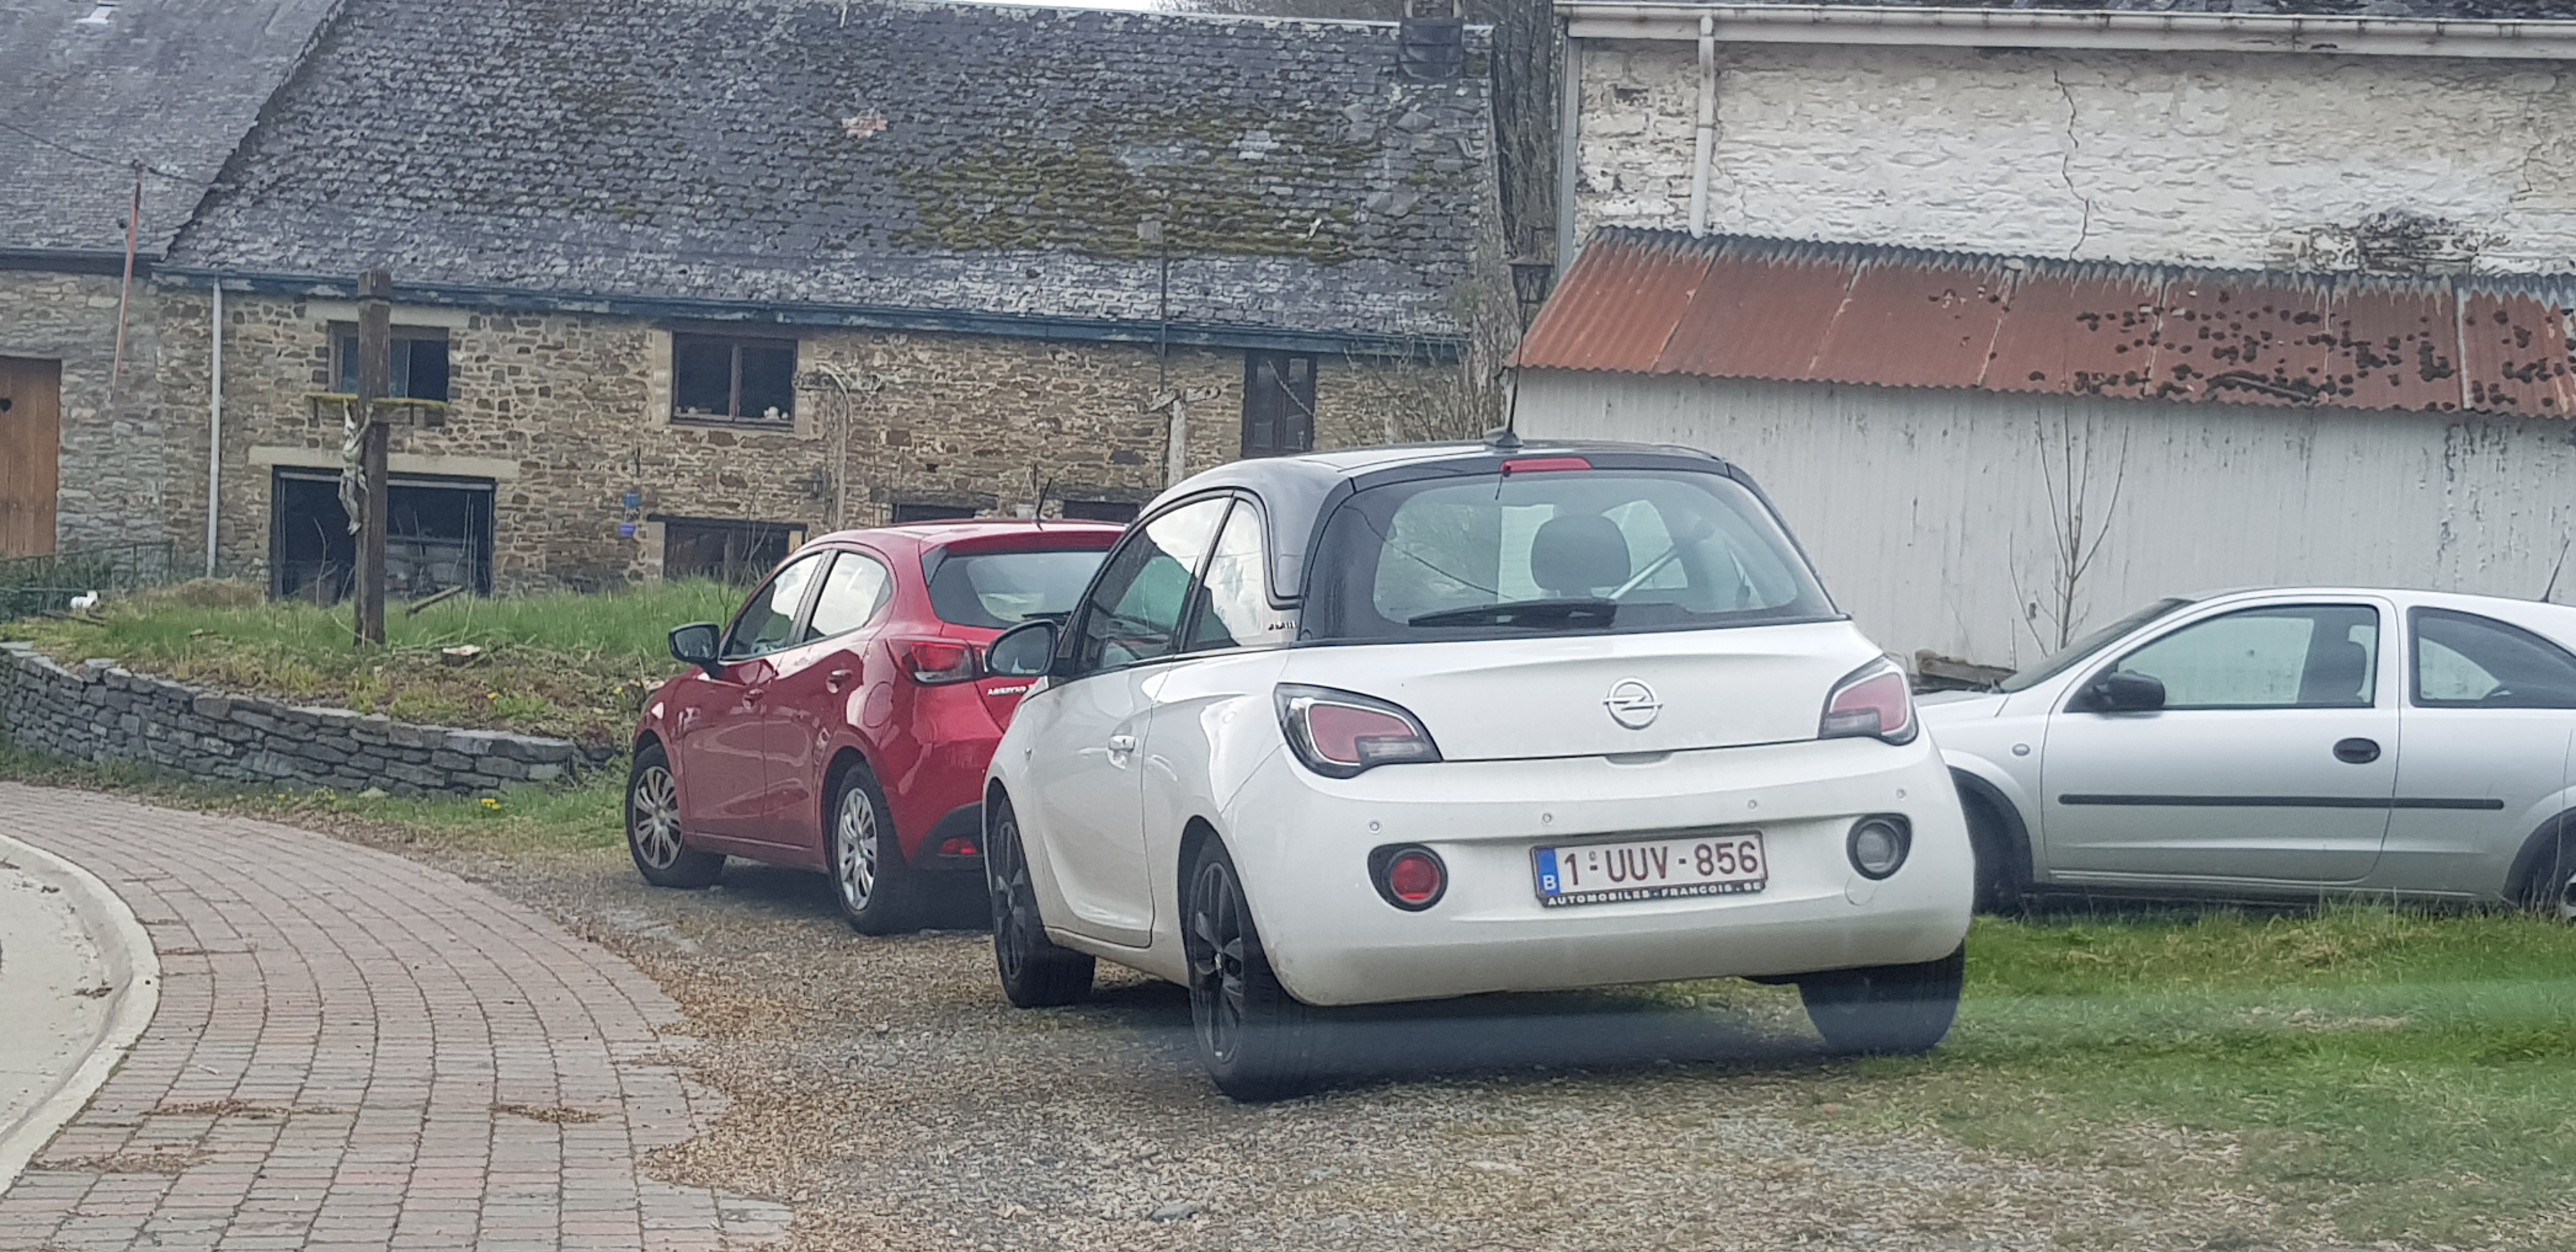licenceplate: (1531, 839, 1766, 892)
